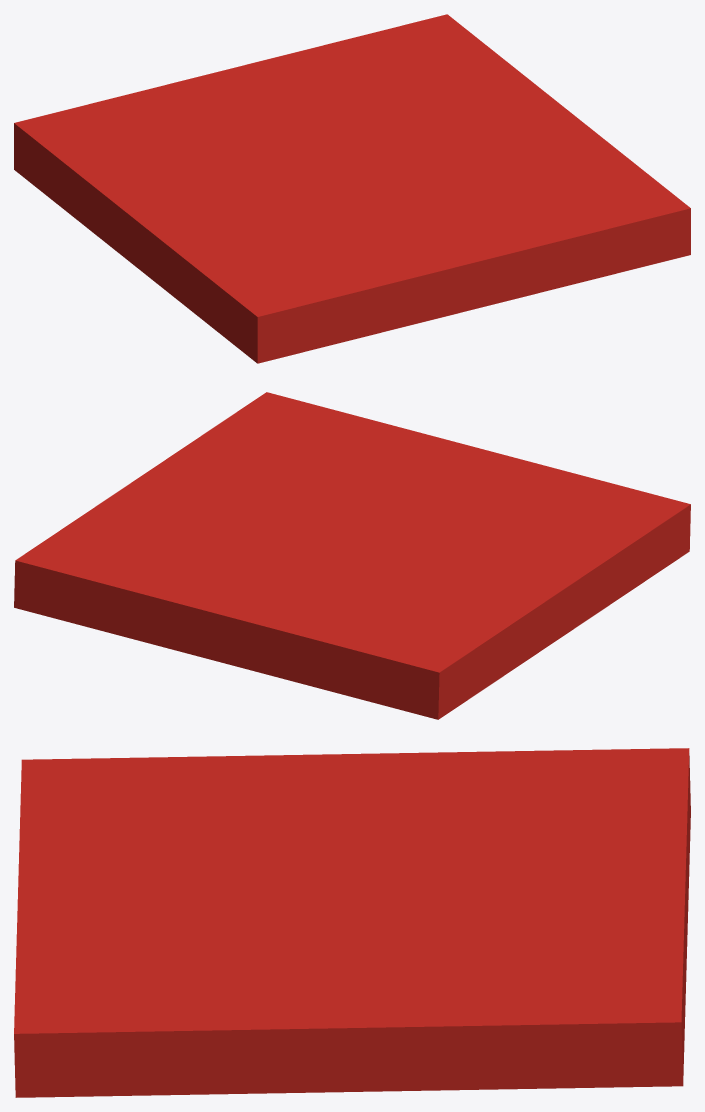
3 renders of one model, top to bottom at view 1: azimuth 30°, elevation 25°; view 2: azimuth 150°, elevation 25°; view 3: azimuth 270°, elevation 25°, orthographic. The views are drawn at different scales.
Visible parts, largest first — view 1: Plane; view 2: Plane; view 3: Plane.
Boxes of the visible parts, x1=… form: Plane: x1=14, y1=14, x2=690, y2=363; Plane: x1=14, y1=392, x2=690, y2=719; Plane: x1=14, y1=748, x2=690, y2=1097.
Bounding box in the file's own units: 301 × 301 × 42.34.
